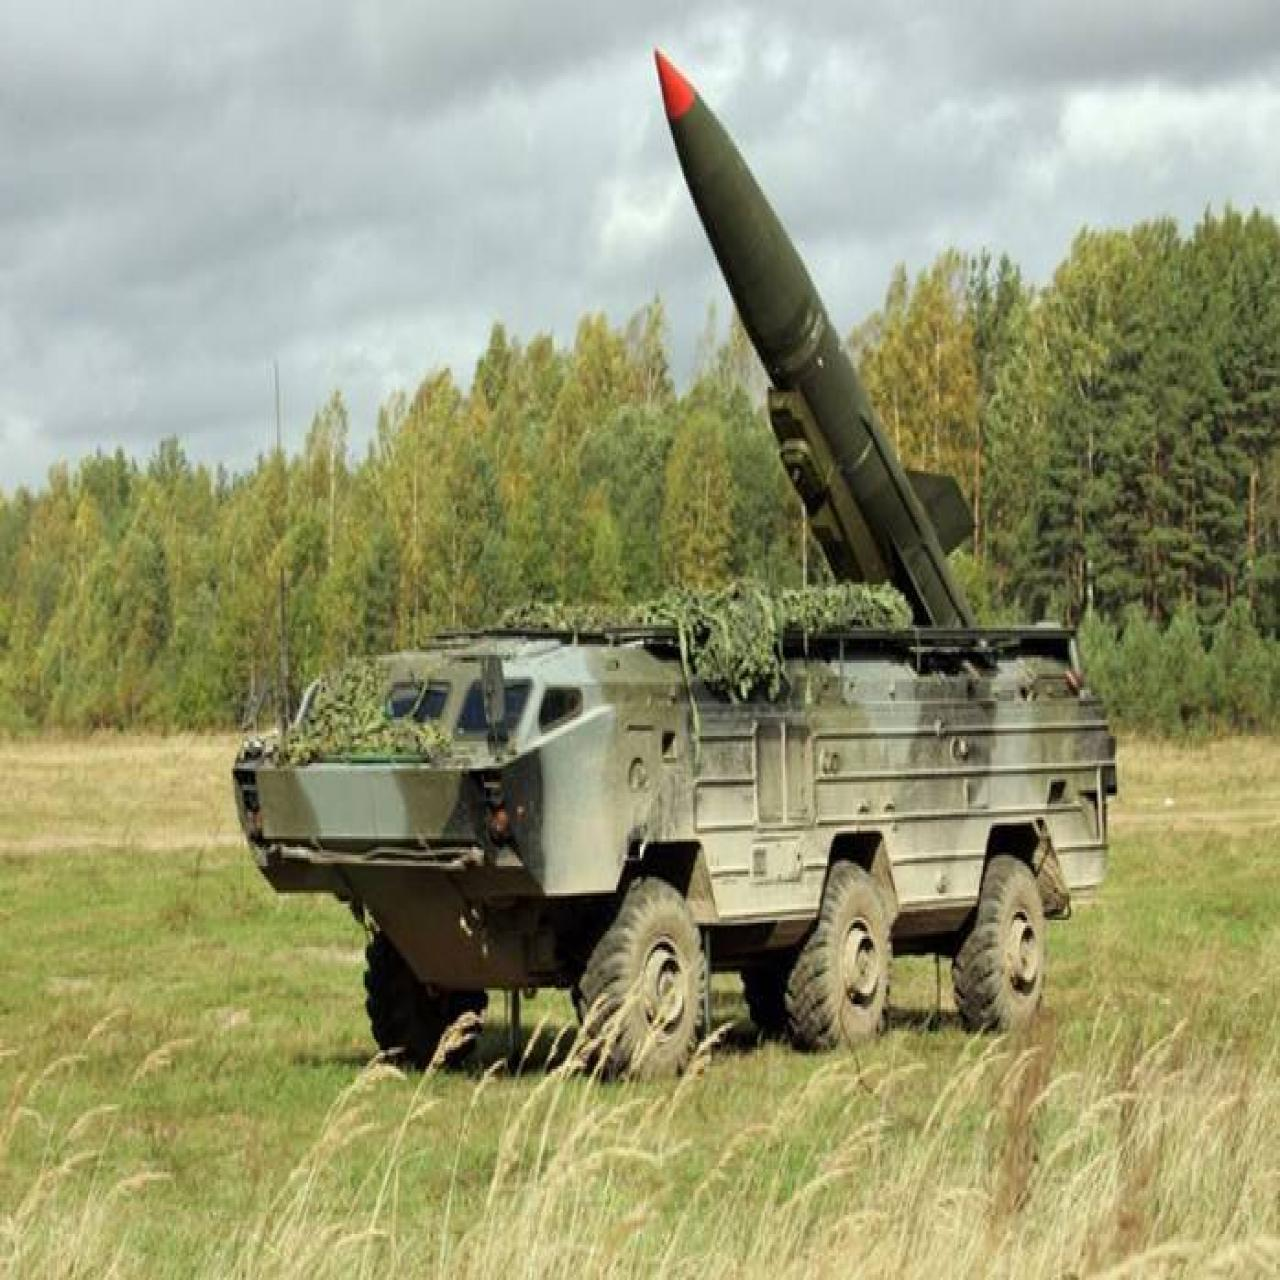MIL_Veh: (238, 50, 1118, 1050)
